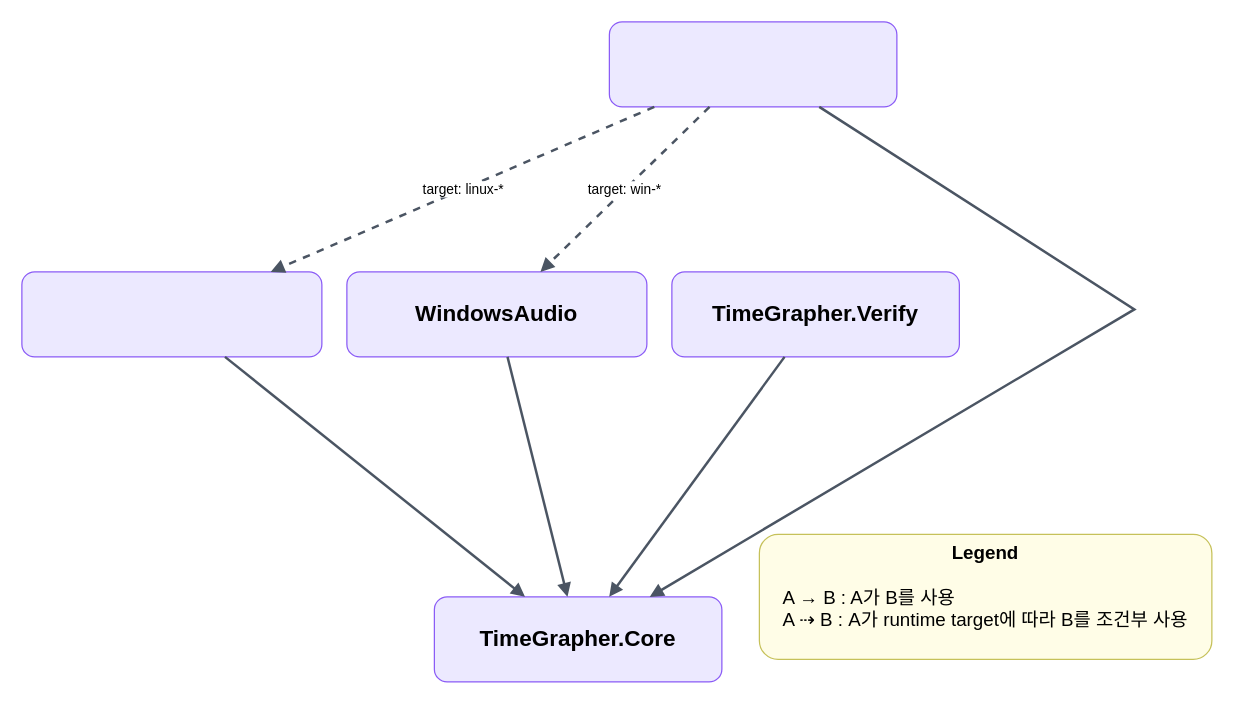
The diagram is 1234 pixels wide and 704 high, and some of its shapes have lost their labels. The centre of each missing label's shape, as x and y in pixels:
LinuxAudio: the point at 171,314
TimeGrapher.App: the point at 752,64
